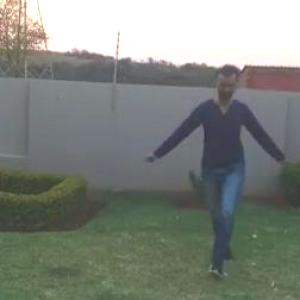land: (167, 67, 287, 243)
